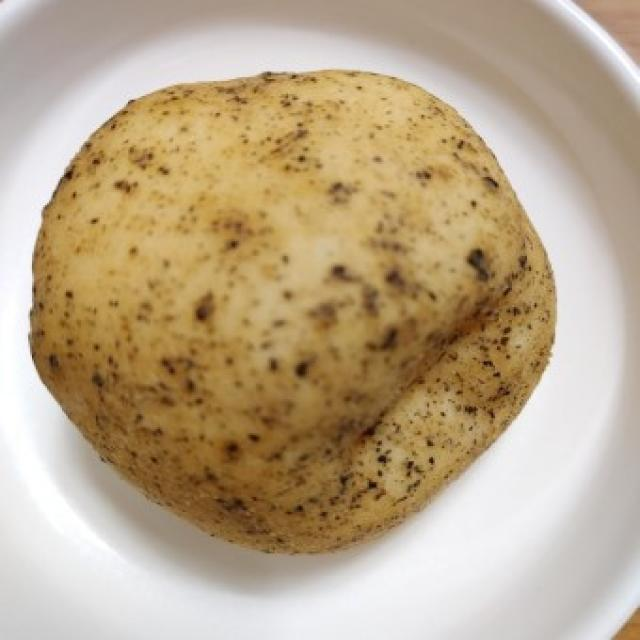potato: (28, 62, 560, 560)
